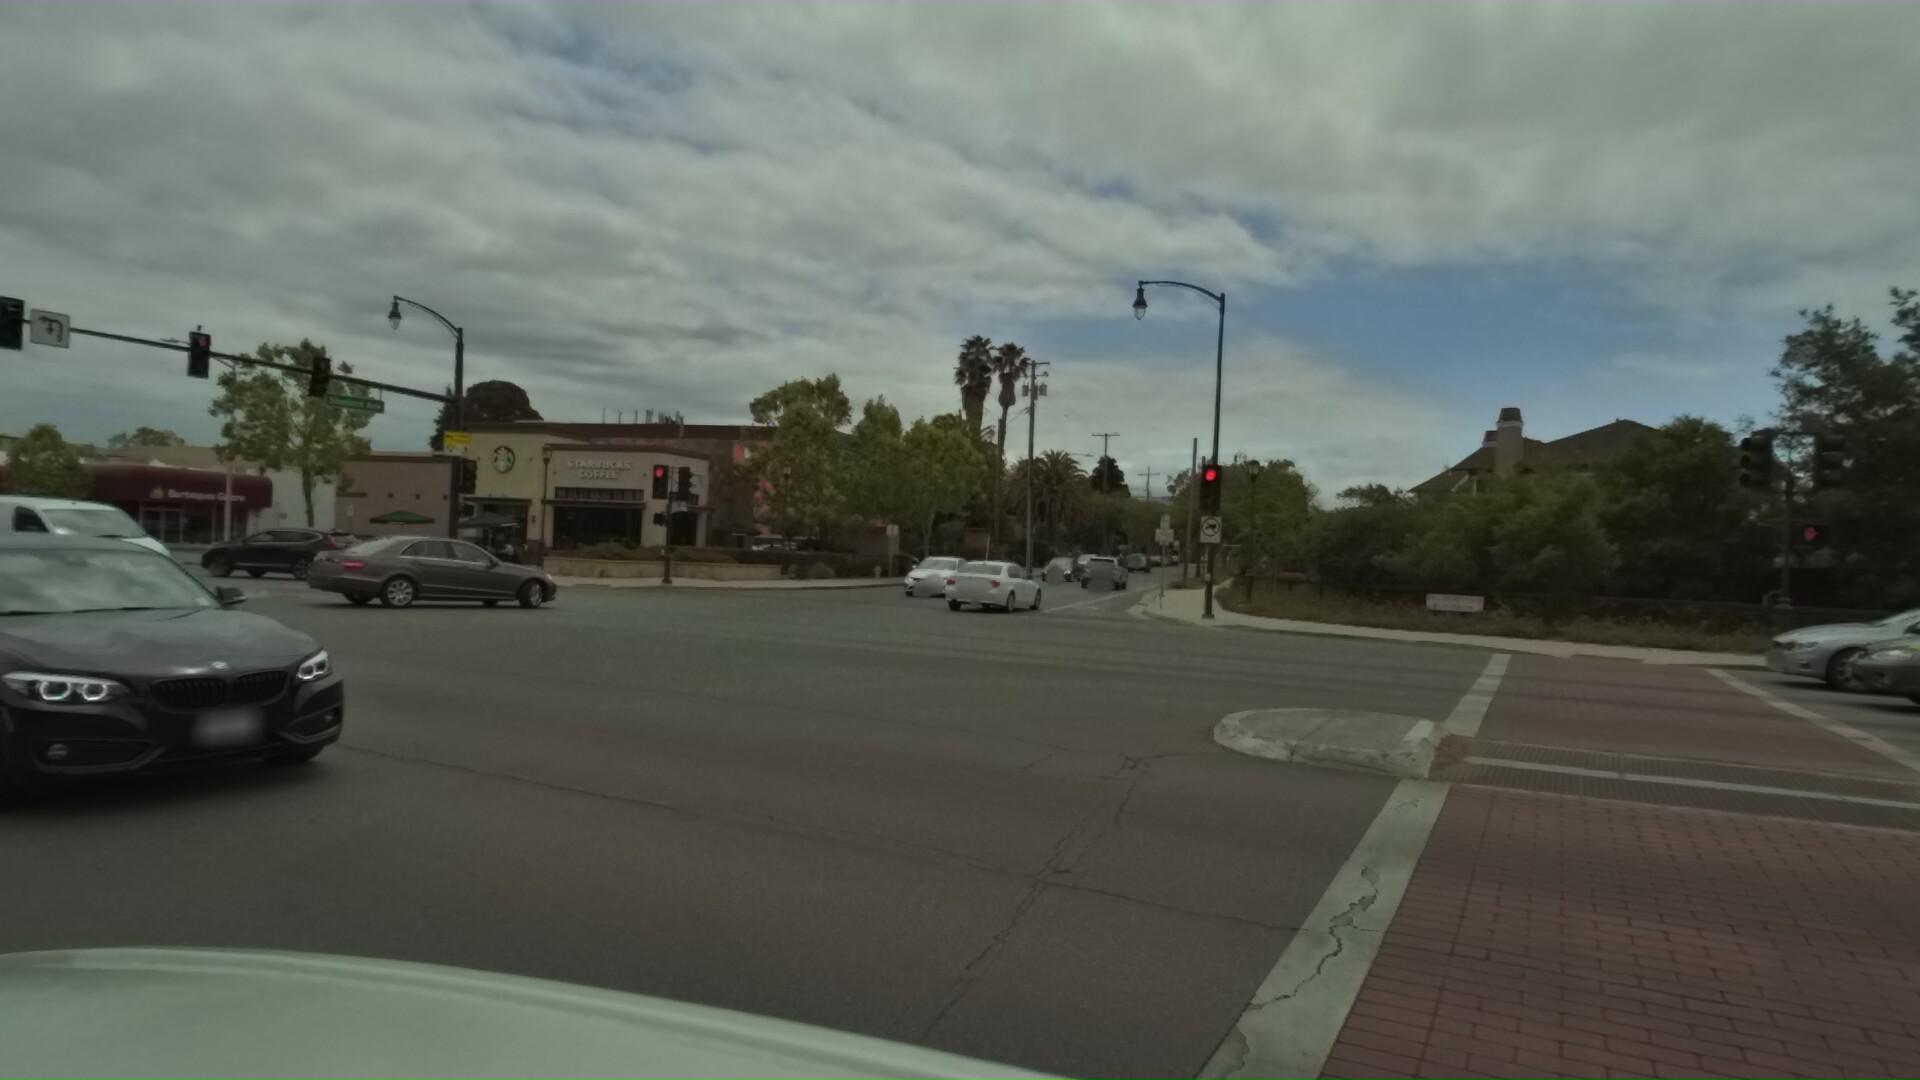car: (0, 473, 411, 855), (1850, 498, 1920, 926), (1772, 563, 1920, 761), (1710, 579, 1920, 716), (289, 526, 568, 613), (0, 493, 198, 612), (1837, 550, 1920, 822), (160, 517, 351, 580), (926, 554, 1040, 615), (881, 553, 972, 599), (1072, 553, 1124, 587), (1029, 553, 1075, 582)
